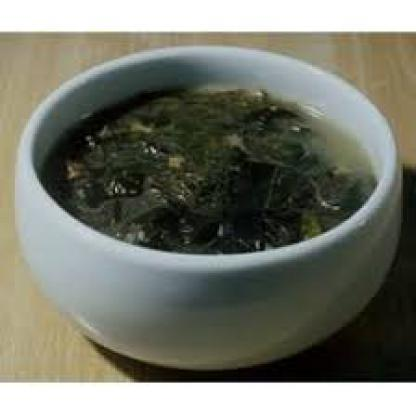seaweed: (28, 72, 386, 270)
